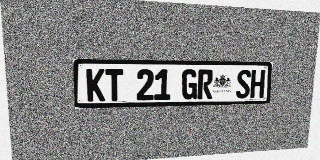1: (154, 69, 171, 100)
2: (137, 69, 154, 100)
G: (181, 69, 198, 100)
H: (250, 70, 265, 98)
K: (86, 69, 105, 102)
R: (197, 69, 213, 99)
S: (236, 70, 251, 98)
T: (105, 69, 123, 101)
